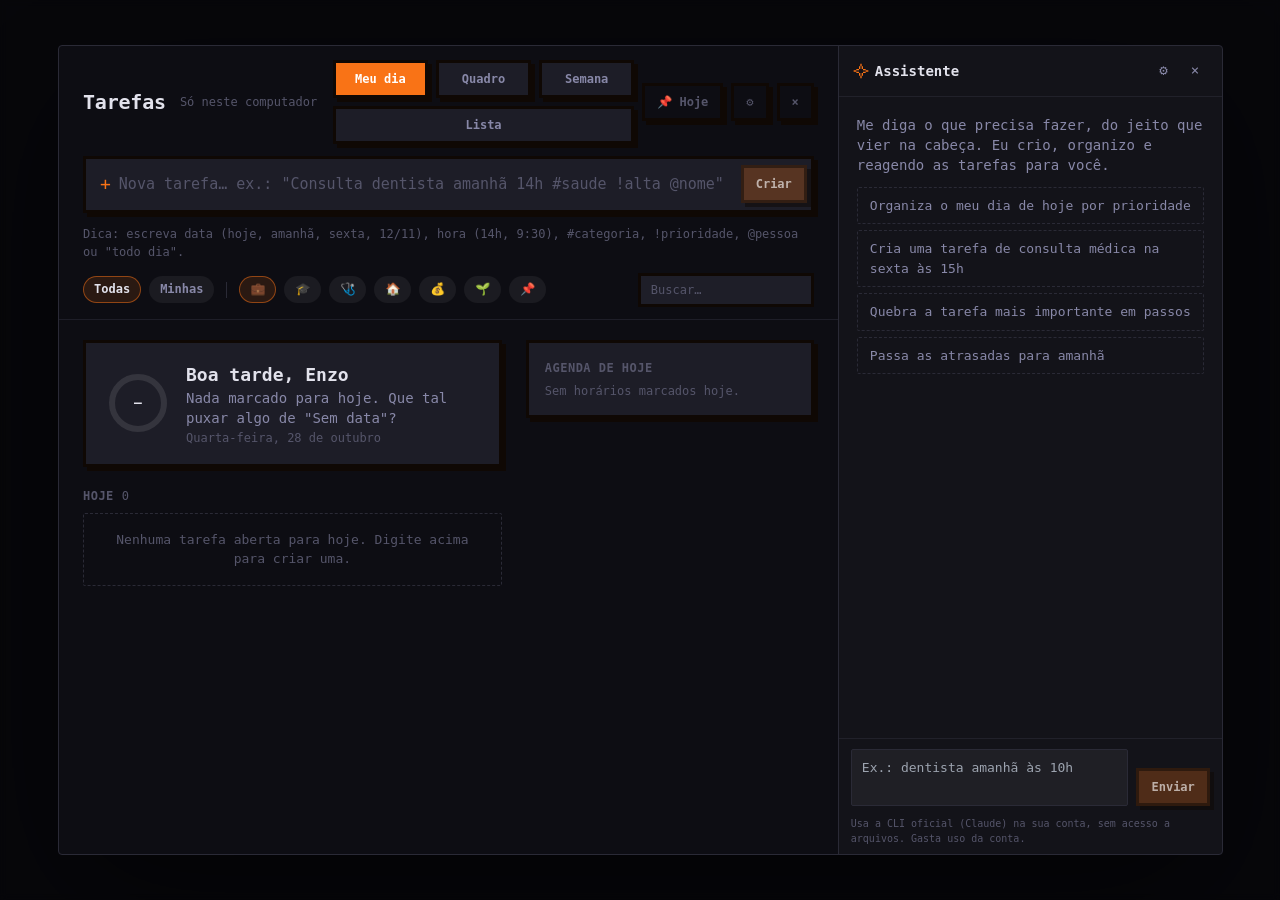
Test: o que a IA cria aparece (bug do filtro) › tarefa de saúde criada com o filtro Trabalho ligado: o filtro sai e o cartão brilha
This screenshot has width=1280, height=900.
In the text box named "Mensagem para o assistente": [989, 778] box [850,749,1128,806], type "consulta médica hoje 15h"
Then press Enter
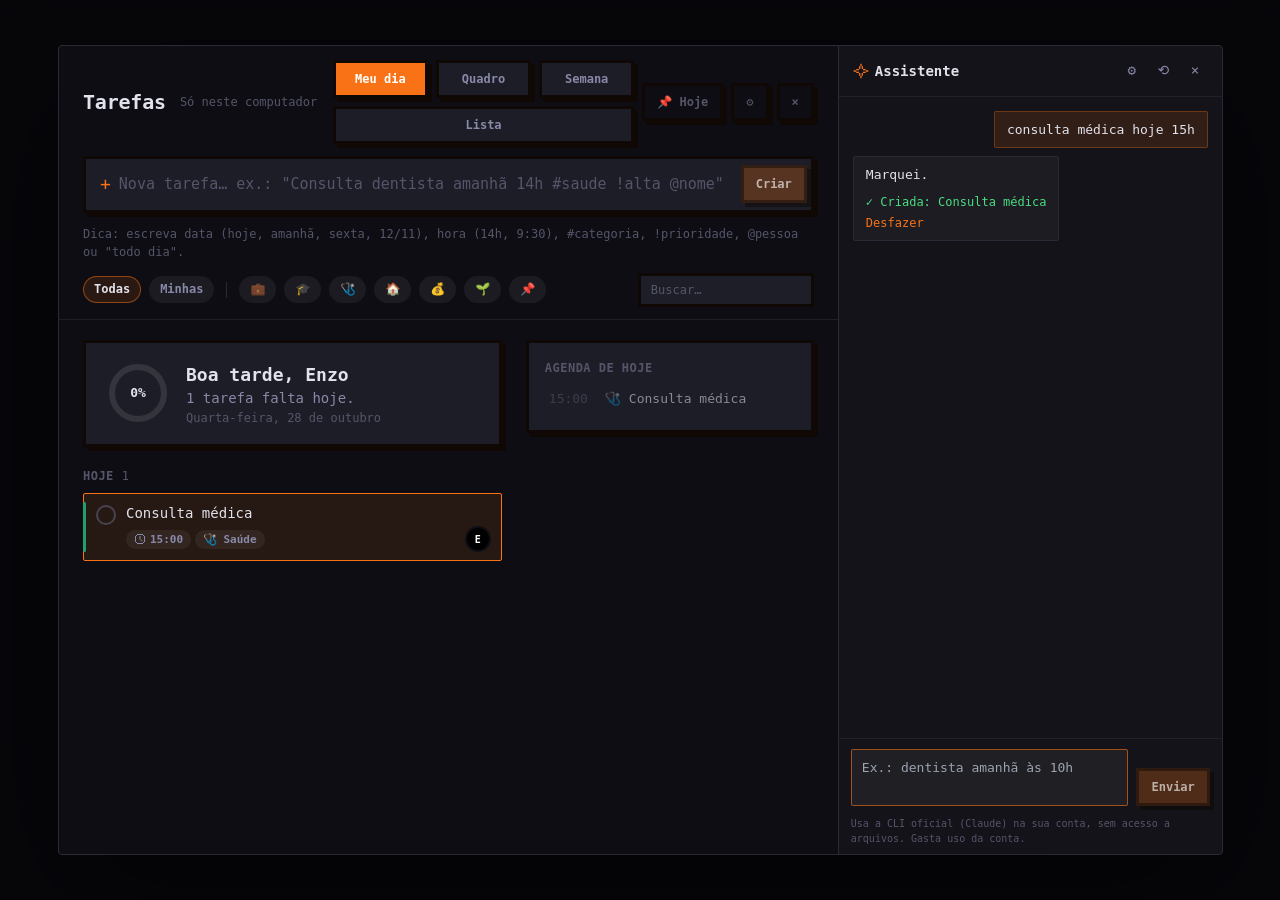
expect the text "Marquei." is shown: met, box [865,167,928,182]
